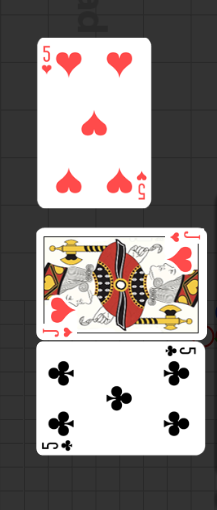5C: (163, 344, 198, 359)
5H: (41, 44, 54, 76), (135, 169, 148, 201)
